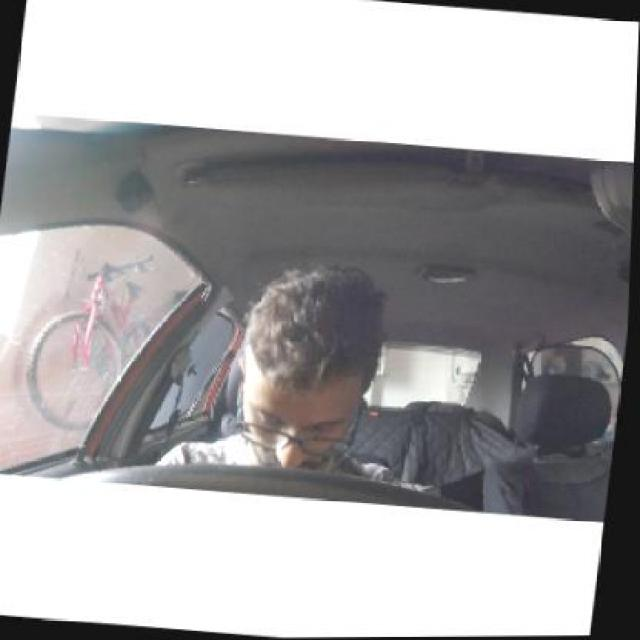drowsy: (221, 248, 390, 468)
